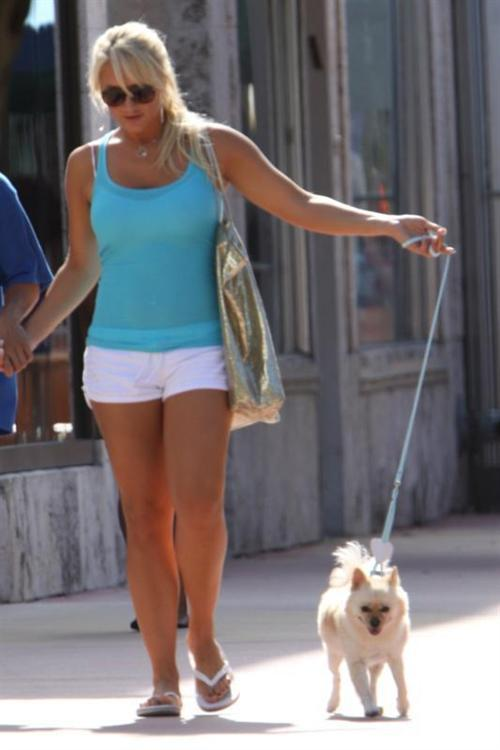person: (1, 24, 455, 714)
